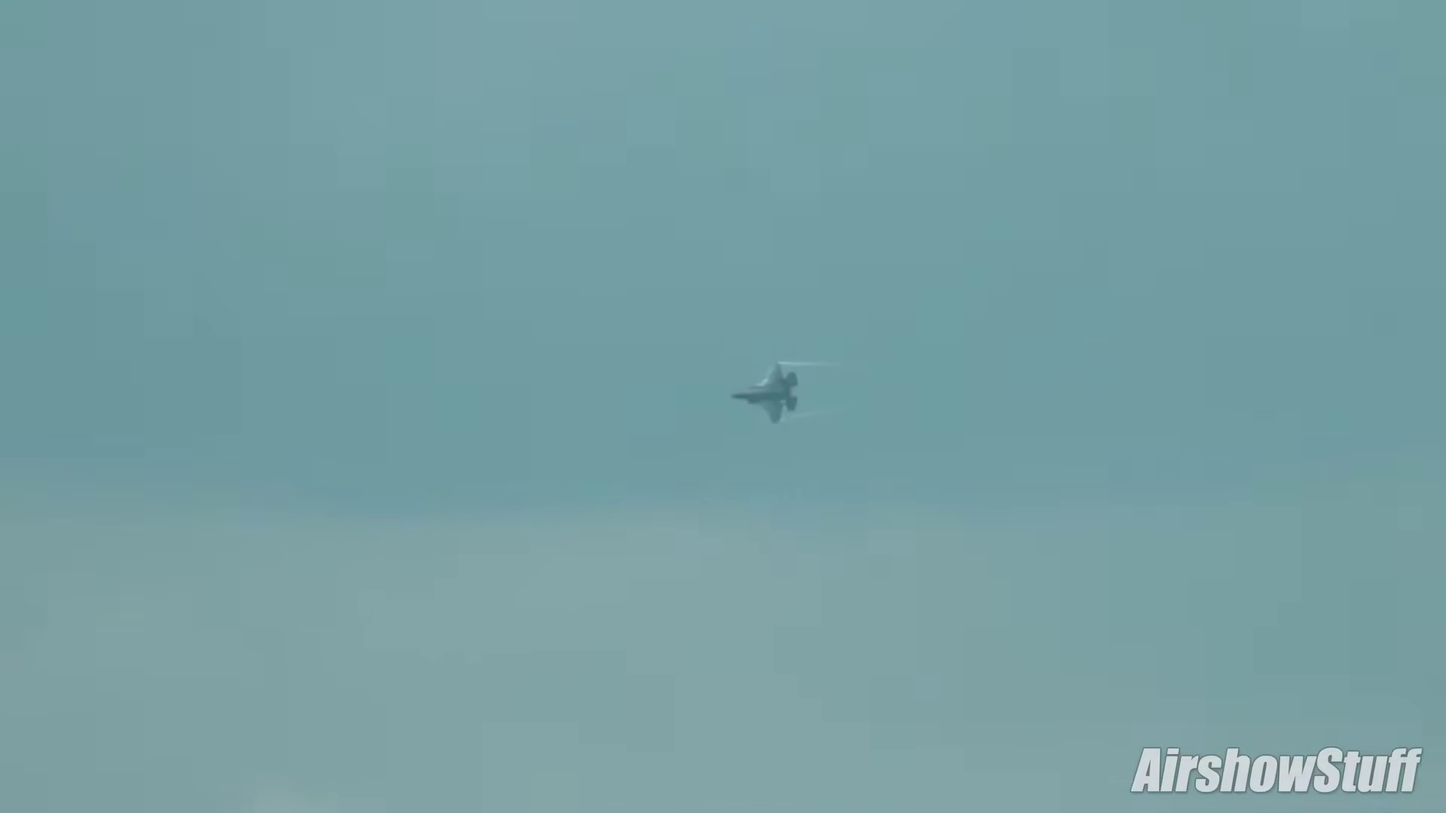F35: (726, 363, 801, 427)
